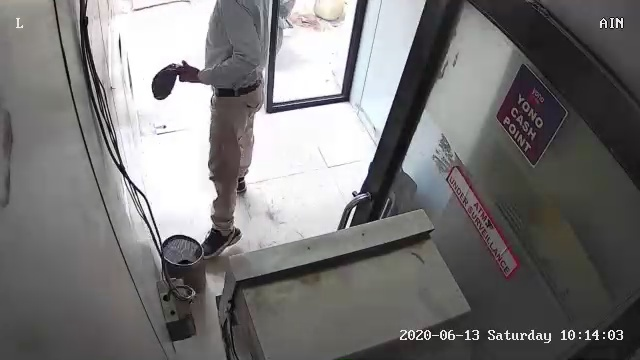open: (343, 4, 633, 352)
